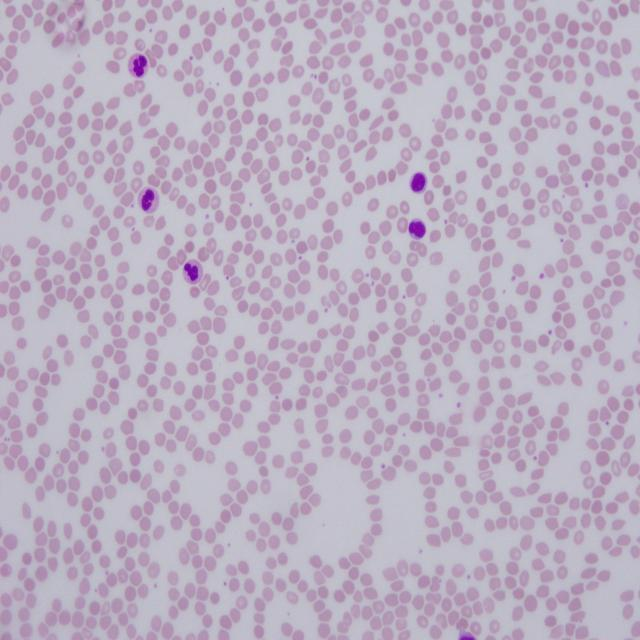cell: (138, 186, 159, 214), (182, 260, 202, 284), (129, 54, 148, 78)
